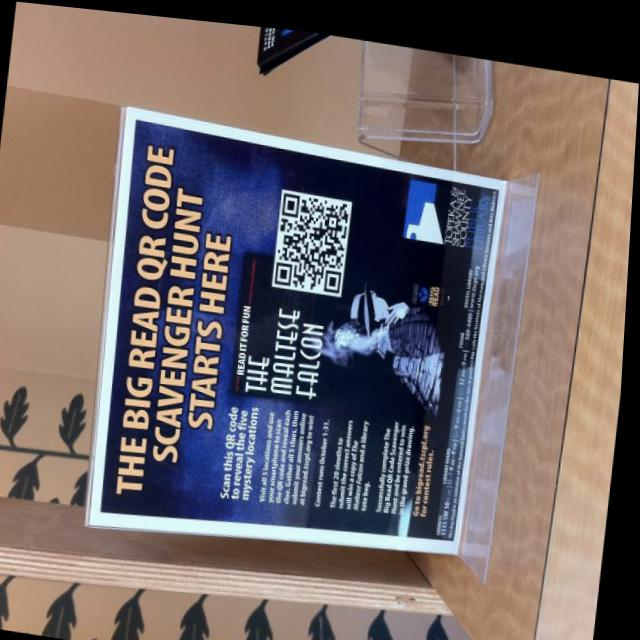qrcode: (278, 186, 353, 286)
